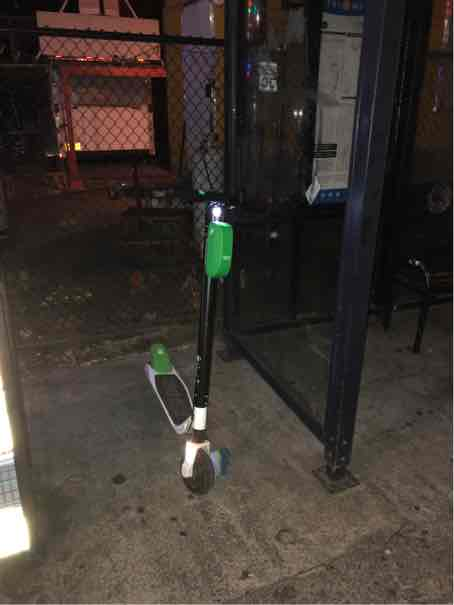scooter: (124, 189, 257, 498)
